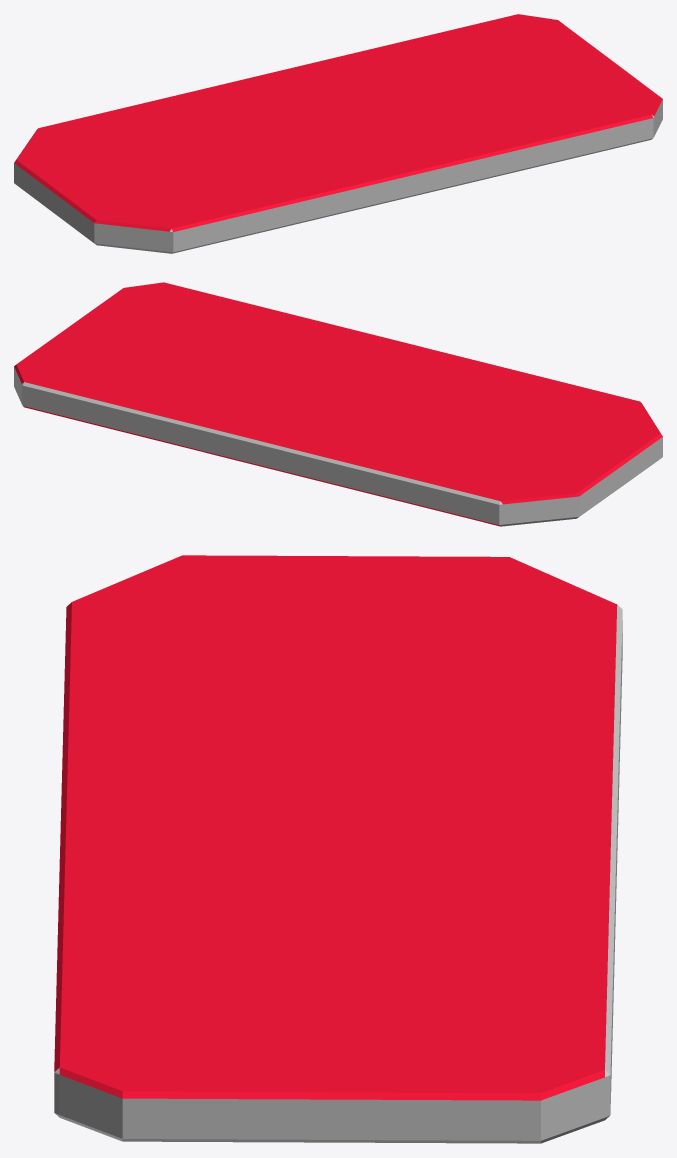
Rendered from Hoverboard.obj.
3 views of the same model, one above another, from view 1: azimuth 30°, elevation 25°; view 2: azimuth 150°, elevation 25°; view 3: azimuth 270°, elevation 25° (orthographic). The views are drawn at different scales.
Parts seen in each view (by area): view 1: Base; view 2: Base; view 3: Base.
Boxes of the visible parts, x1,y1,x2,y2 form: Base: (14, 14, 662, 253); Base: (14, 282, 662, 526); Base: (54, 555, 622, 1143).
Bounding box in the file's own units: 2.31 × 0.1 × 1.02.
